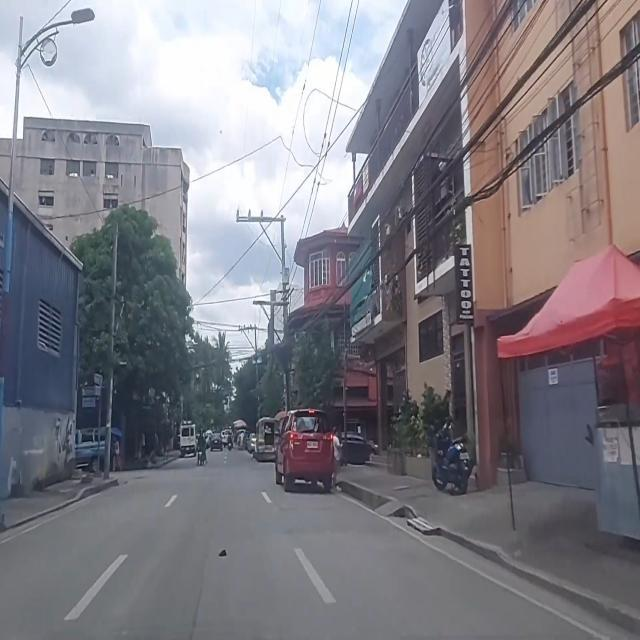car: (276, 408, 333, 492), (75, 428, 105, 471), (340, 432, 377, 464), (210, 433, 223, 451)
jeepney: (254, 417, 278, 461)
motorcycle: (432, 420, 472, 494), (196, 428, 208, 465), (228, 430, 232, 450)
truck: (180, 424, 196, 458)
